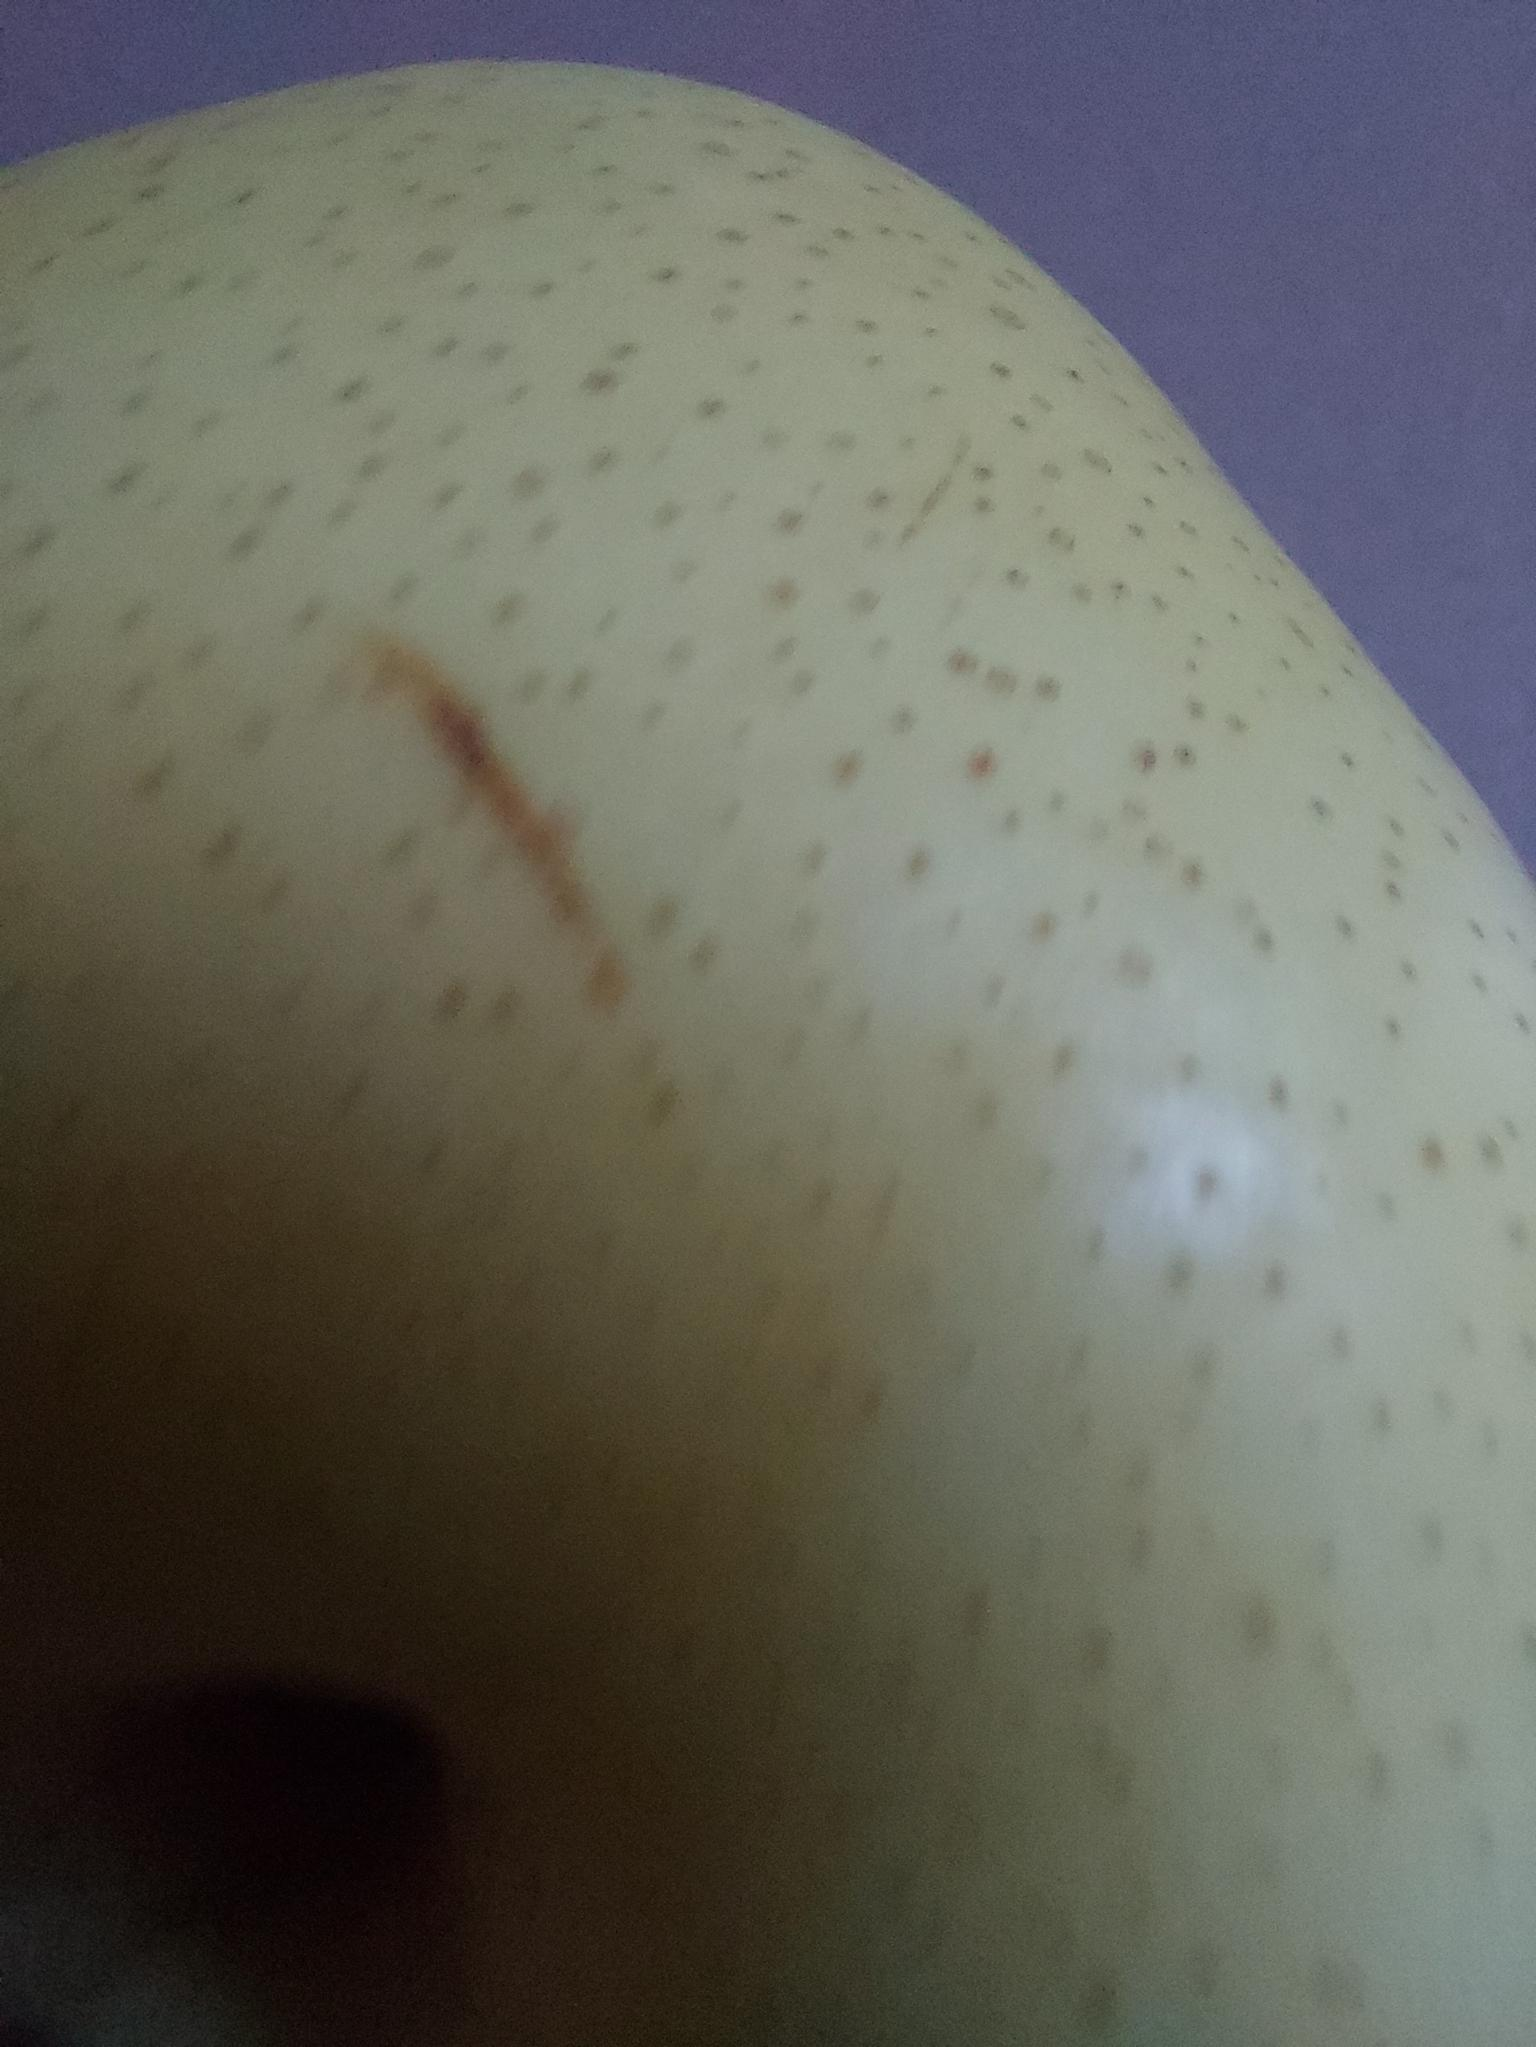Good Pear: (0, 44, 1536, 2047)
